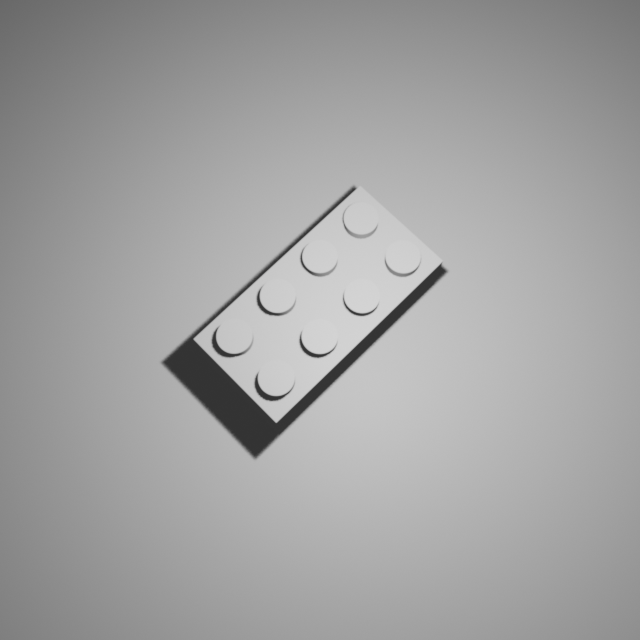lego_2x4: (192, 181, 445, 435)
